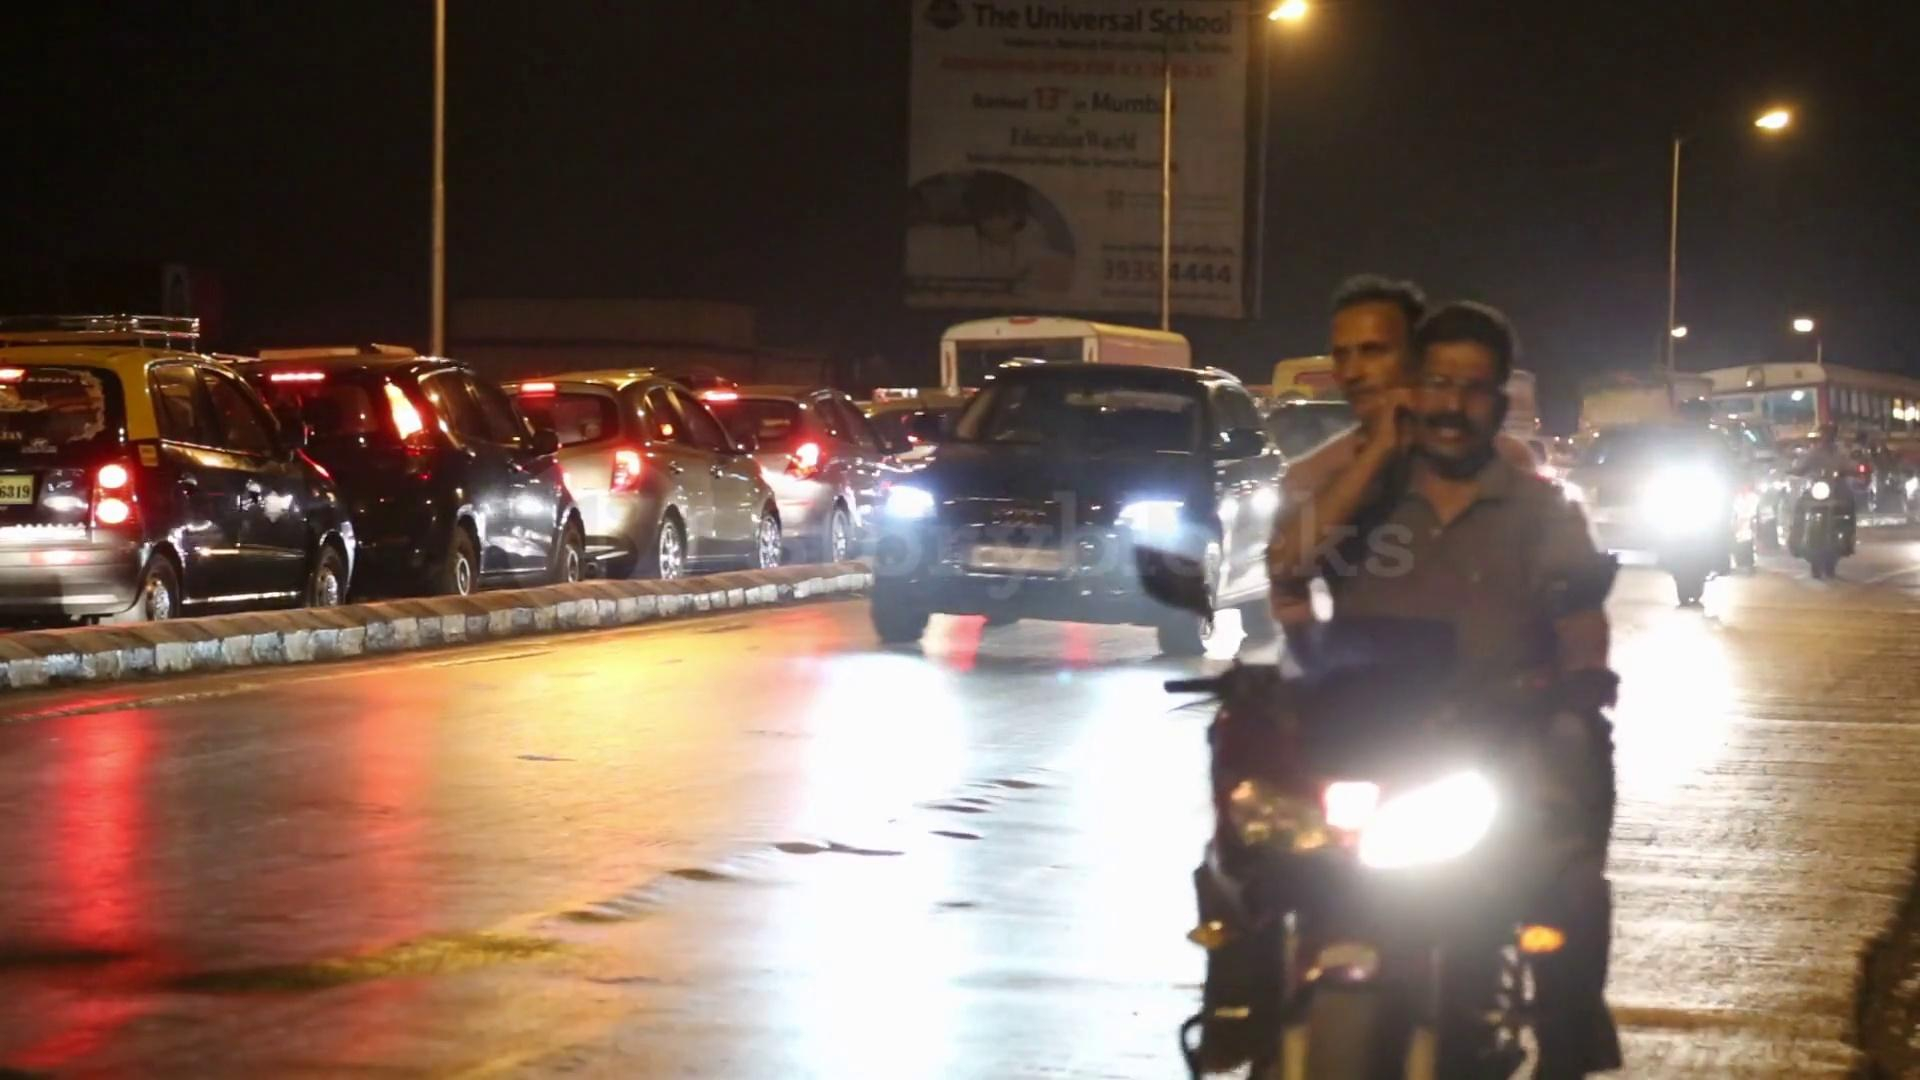rider: (1186, 295, 1624, 1075), (1793, 416, 1854, 586)
without_helmate: (1409, 314, 1507, 483)
